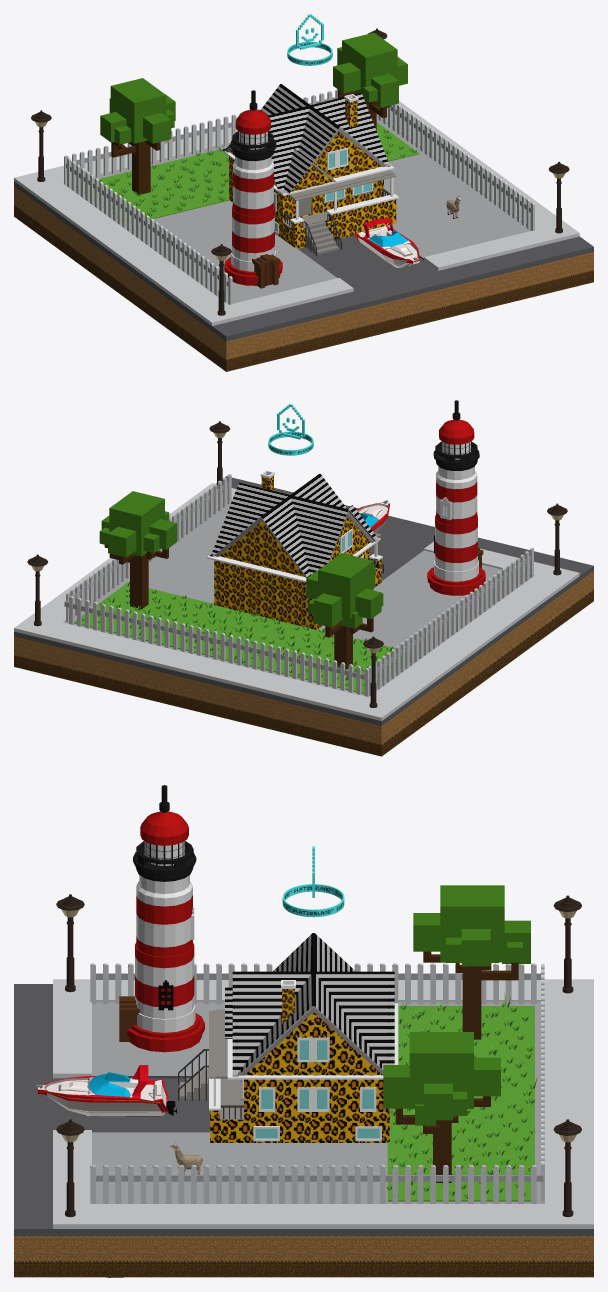
The picture shows the model from 3 angles, top to bottom: view 1: azimuth 30°, elevation 25°; view 2: azimuth 150°, elevation 25°; view 3: azimuth 270°, elevation 25°; orthographic projection. The views are drawn at different scales.
Visible parts, largest first — view 1: Cube.004, Cube.637, OBJRANDOM_LIGHTHOUSE, VEHICLES_BOAT, TYPE_PREMIUM; view 2: Cube.004, Cube.637, OBJRANDOM_LIGHTHOUSE, TYPE_PREMIUM, VEHICLES_BOAT; view 3: Cube.004, Cube.637, OBJRANDOM_LIGHTHOUSE, VEHICLES_BOAT, TYPE_PREMIUM.
Part boxes in pixels (x1,y1,x2,y2): Cube.004: (14, 28, 593, 371); Cube.637: (221, 84, 398, 255); OBJRANDOM_LIGHTHOUSE: (224, 90, 282, 288); VEHICLES_BOAT: (354, 217, 419, 268); TYPE_PREMIUM: (287, 14, 332, 65); Cube.004: (14, 421, 593, 756); Cube.637: (207, 470, 383, 629); OBJRANDOM_LIGHTHOUSE: (427, 400, 485, 595); TYPE_PREMIUM: (268, 404, 313, 455); VEHICLES_BOAT: (356, 500, 389, 532); Cube.004: (14, 885, 593, 1277); Cube.637: (178, 933, 398, 1142); OBJRANDOM_LIGHTHOUSE: (119, 785, 204, 1052); VEHICLES_BOAT: (36, 1065, 176, 1116); TYPE_PREMIUM: (282, 846, 344, 917).
Bounding box in the file's own units: 4000 × 2440 × 4000.
Materials: 35 (5 with a texture image).
